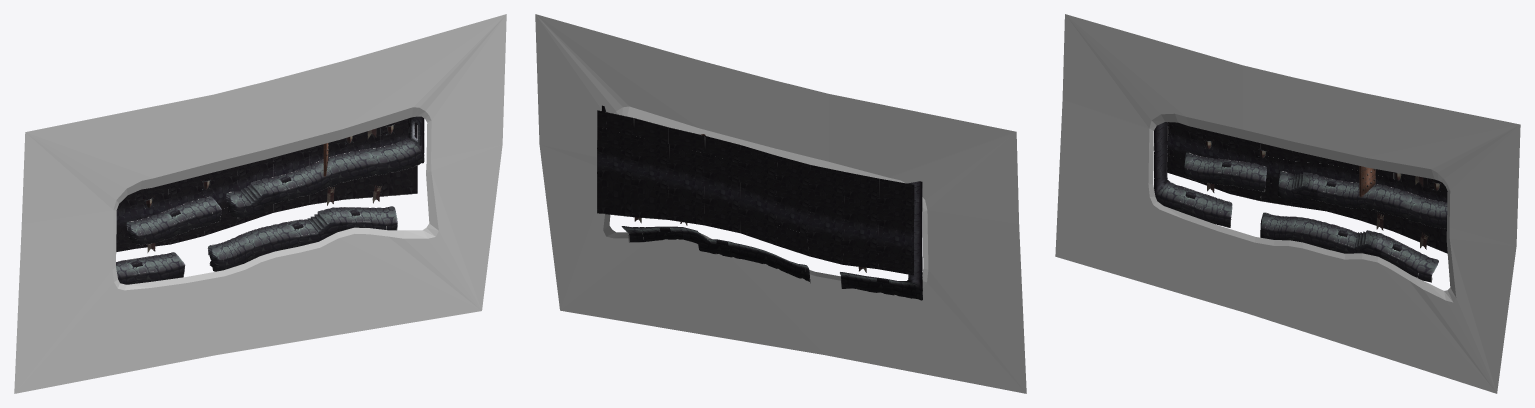
Rendered from Castle Tower Part 3.FBX.
The picture shows the model from 3 angles, left to right: view 1: azimuth 30°, elevation 25°; view 2: azimuth 150°, elevation 25°; view 3: azimuth 330°, elevation 25°; orthographic projection. The views are drawn at different scales.
Visible parts, largest first — view 1: LVL 2 Black Castle 2ND Floor, Back Wall 3, Stone Floor 7, Back Wall 4, Stone Floor 4, Stone Floor 6, Stone Floor 5, Side Walls; view 2: LVL 2 Black Castle 2ND Floor, Back Wall 3, Back Wall 4, Stone Floor 4, Side Walls, Stone Floor 5; view 3: LVL 2 Black Castle 2ND Floor, Back Wall 3, Stone Floor 4, Stone Floor 7, Back Wall 4, Stone Floor 6, Stone Floor 5, Side Walls, Boss Door.
Part boxes in pixels (left/top/right/bottom): LVL 2 Black Castle 2ND Floor: left=14, top=14, right=506, bottom=393; Back Wall 3: left=116, top=157, right=273, bottom=252; Stone Floor 7: left=226, top=141, right=413, bottom=218; Back Wall 4: left=273, top=118, right=417, bottom=212; Stone Floor 4: left=207, top=206, right=397, bottom=271; Stone Floor 6: left=126, top=196, right=221, bottom=245; Stone Floor 5: left=117, top=252, right=185, bottom=284; Side Walls: left=116, top=116, right=424, bottom=283; LVL 2 Black Castle 2ND Floor: left=535, top=14, right=1026, bottom=393; Back Wall 3: left=740, top=145, right=914, bottom=275; Back Wall 4: left=597, top=110, right=740, bottom=232; Stone Floor 4: left=621, top=226, right=810, bottom=283; Side Walls: left=601, top=105, right=922, bottom=300; Stone Floor 5: left=840, top=272, right=905, bottom=297; LVL 2 Black Castle 2ND Floor: left=1055, top=14, right=1520, bottom=393; Back Wall 3: left=1167, top=122, right=1326, bottom=211; Stone Floor 4: left=1260, top=212, right=1438, bottom=282; Stone Floor 7: left=1277, top=171, right=1446, bottom=228; Back Wall 4: left=1326, top=158, right=1447, bottom=253; Stone Floor 6: left=1184, top=152, right=1266, bottom=192; Stone Floor 5: left=1170, top=185, right=1232, bottom=227; Side Walls: left=1154, top=122, right=1447, bottom=229; Boss Door: left=1359, top=166, right=1375, bottom=197.
Size of what is drawn, in the model's own units: 8768 by 474 by 4953.
